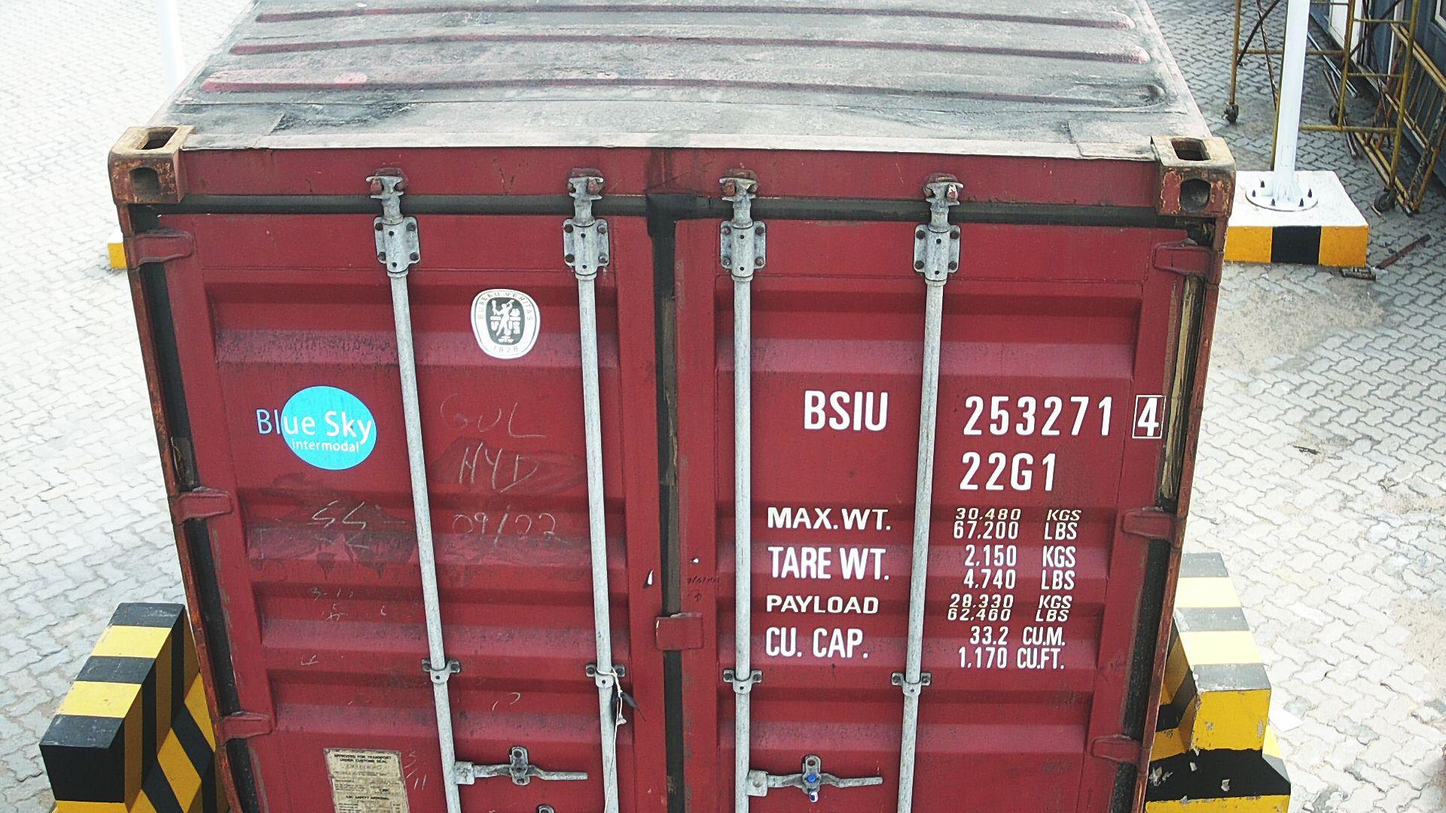container-numbers: (798, 388, 1170, 443), (956, 449, 1060, 495)
